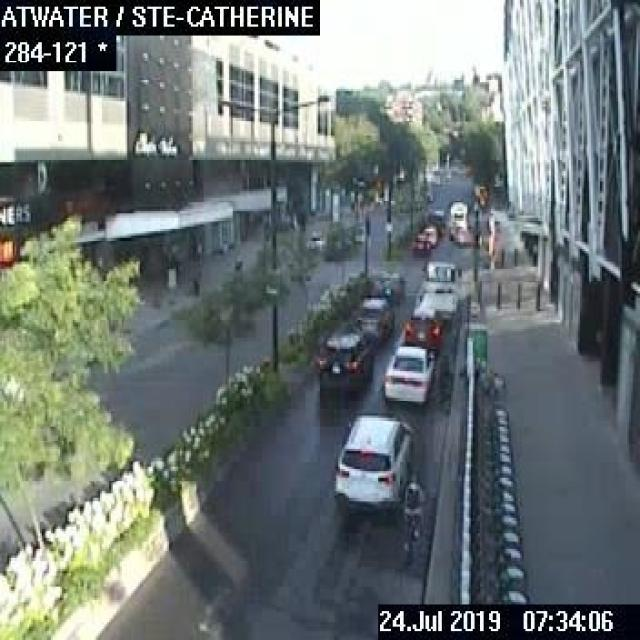bus: (448, 200, 466, 228)
cyclist: (400, 477, 424, 561)
vehicle: (331, 406, 409, 508), (316, 328, 375, 394), (412, 260, 460, 323), (382, 344, 433, 402), (352, 295, 393, 338), (404, 306, 442, 348), (372, 270, 404, 300), (415, 224, 436, 246), (412, 233, 428, 254)
